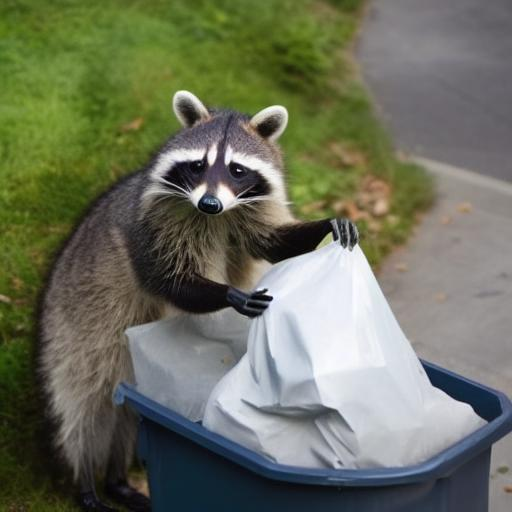raccoon: (29, 82, 308, 490)
